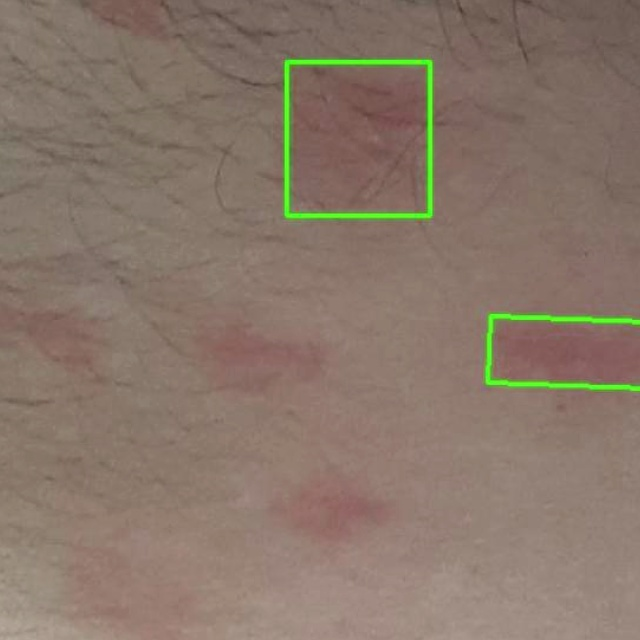Tinea Corporis: (286, 61, 430, 215), (487, 317, 639, 388)
